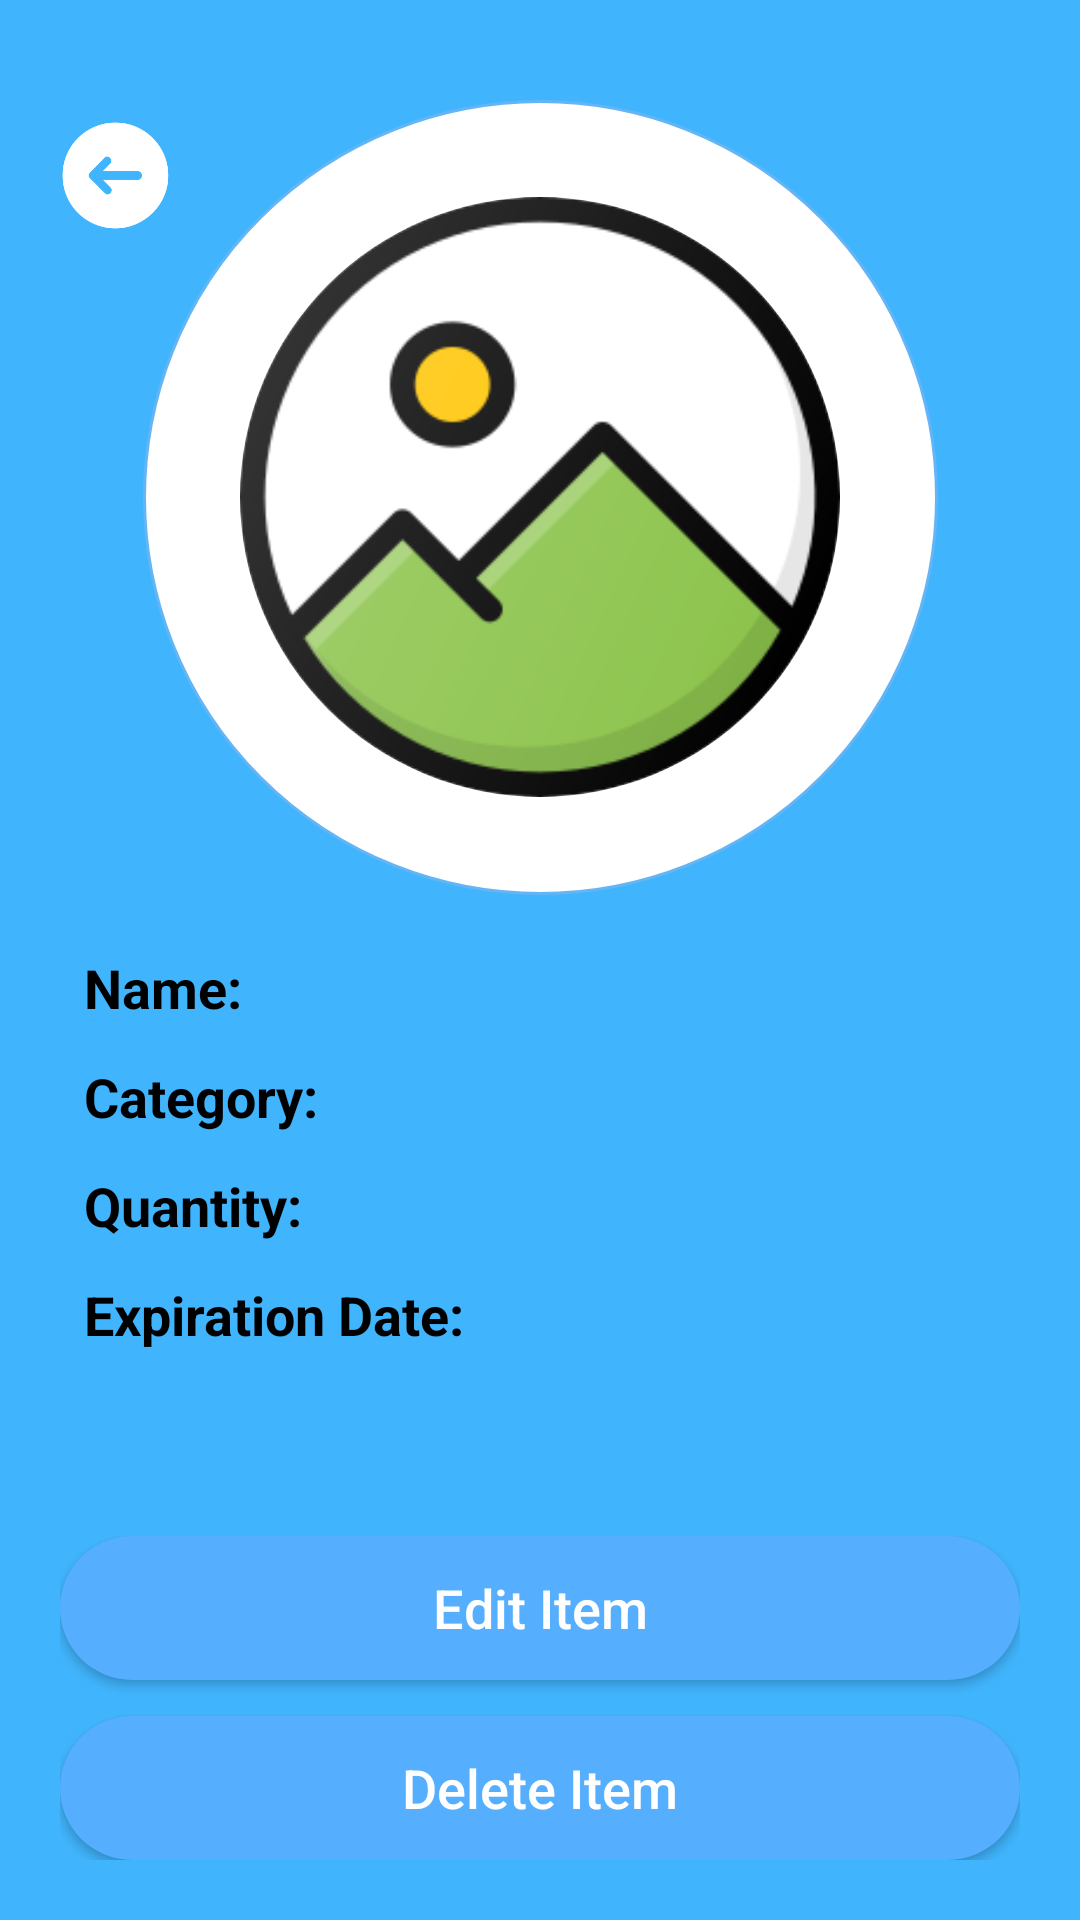

Named icons in this screenshot (1080*1920) and their centers, (x=x, y=y):
back arrow: (x=115, y=175)
